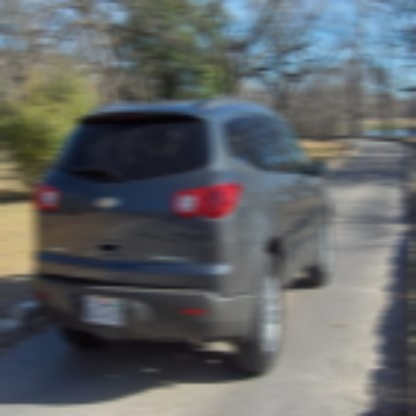Vehicle: (31, 97, 333, 378)
